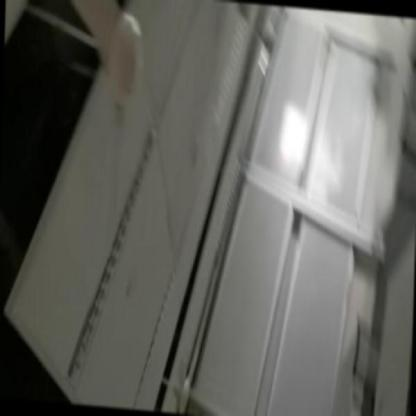light_off: (60, 105, 162, 393)
